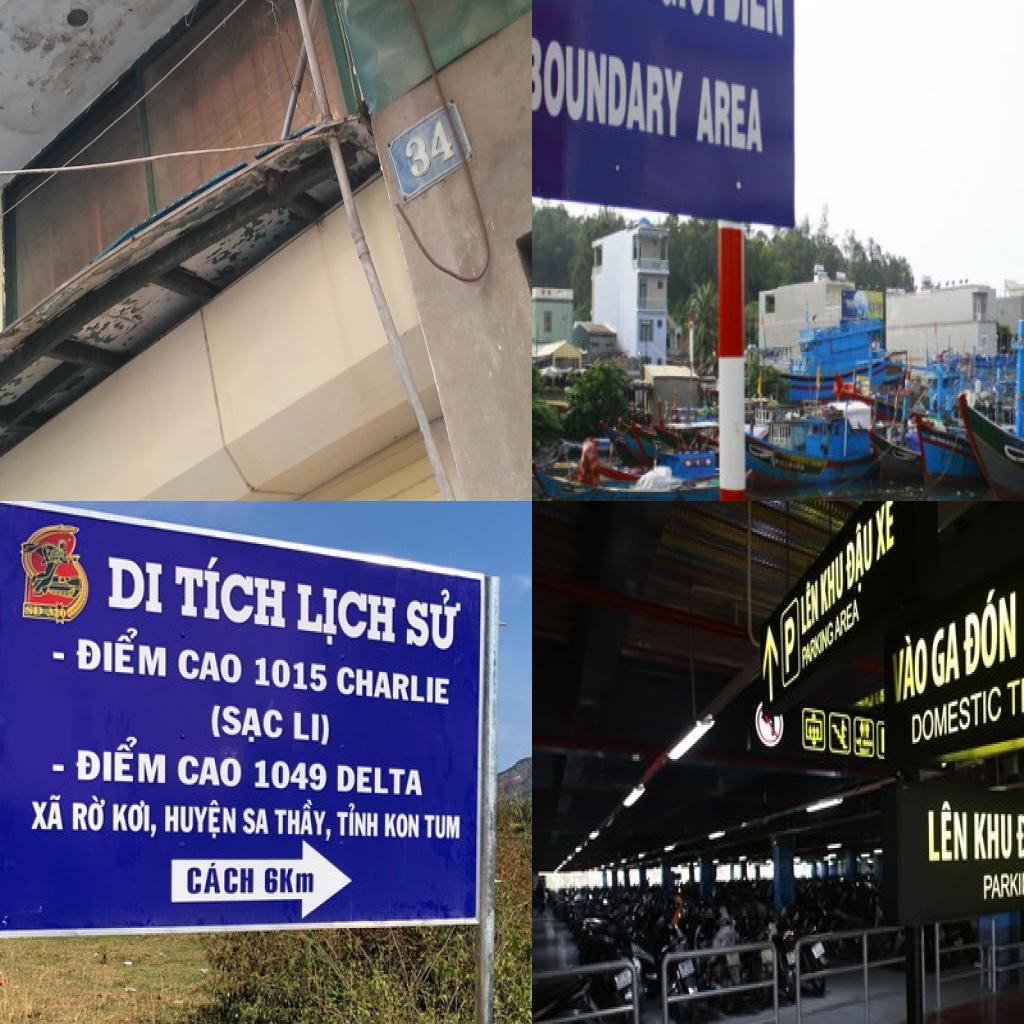text: (532, 31, 687, 142), (169, 550, 288, 632), (293, 580, 401, 655), (908, 680, 1004, 750), (73, 619, 171, 687), (958, 578, 1019, 682), (694, 72, 765, 158), (334, 660, 453, 711), (403, 580, 466, 660), (74, 734, 169, 786), (102, 551, 168, 622), (334, 757, 426, 802), (208, 699, 286, 749), (398, 116, 457, 180), (252, 754, 332, 800), (163, 796, 238, 844), (252, 651, 328, 696), (924, 799, 971, 867), (889, 627, 929, 706), (174, 749, 244, 793), (179, 643, 243, 691), (844, 507, 872, 604), (723, 0, 786, 43), (274, 798, 333, 843), (186, 860, 257, 897), (930, 619, 964, 691), (106, 800, 159, 843), (971, 810, 1015, 861), (818, 549, 846, 621), (68, 791, 110, 836), (800, 619, 834, 674), (292, 706, 333, 751), (335, 800, 380, 841), (26, 790, 66, 834), (798, 570, 821, 640), (872, 501, 895, 568), (981, 869, 1024, 903), (834, 598, 862, 642), (422, 812, 464, 841), (241, 803, 271, 843), (382, 810, 420, 841), (781, 610, 797, 678), (1015, 805, 1024, 873)
